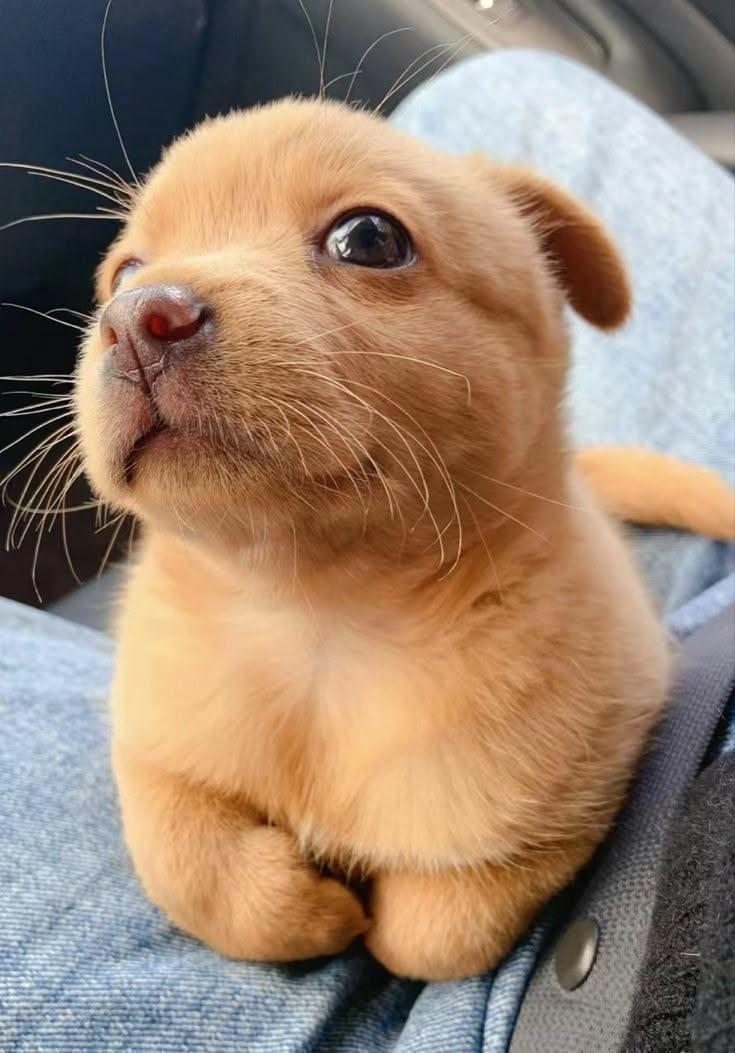puppy-dog: (69, 94, 735, 985)
